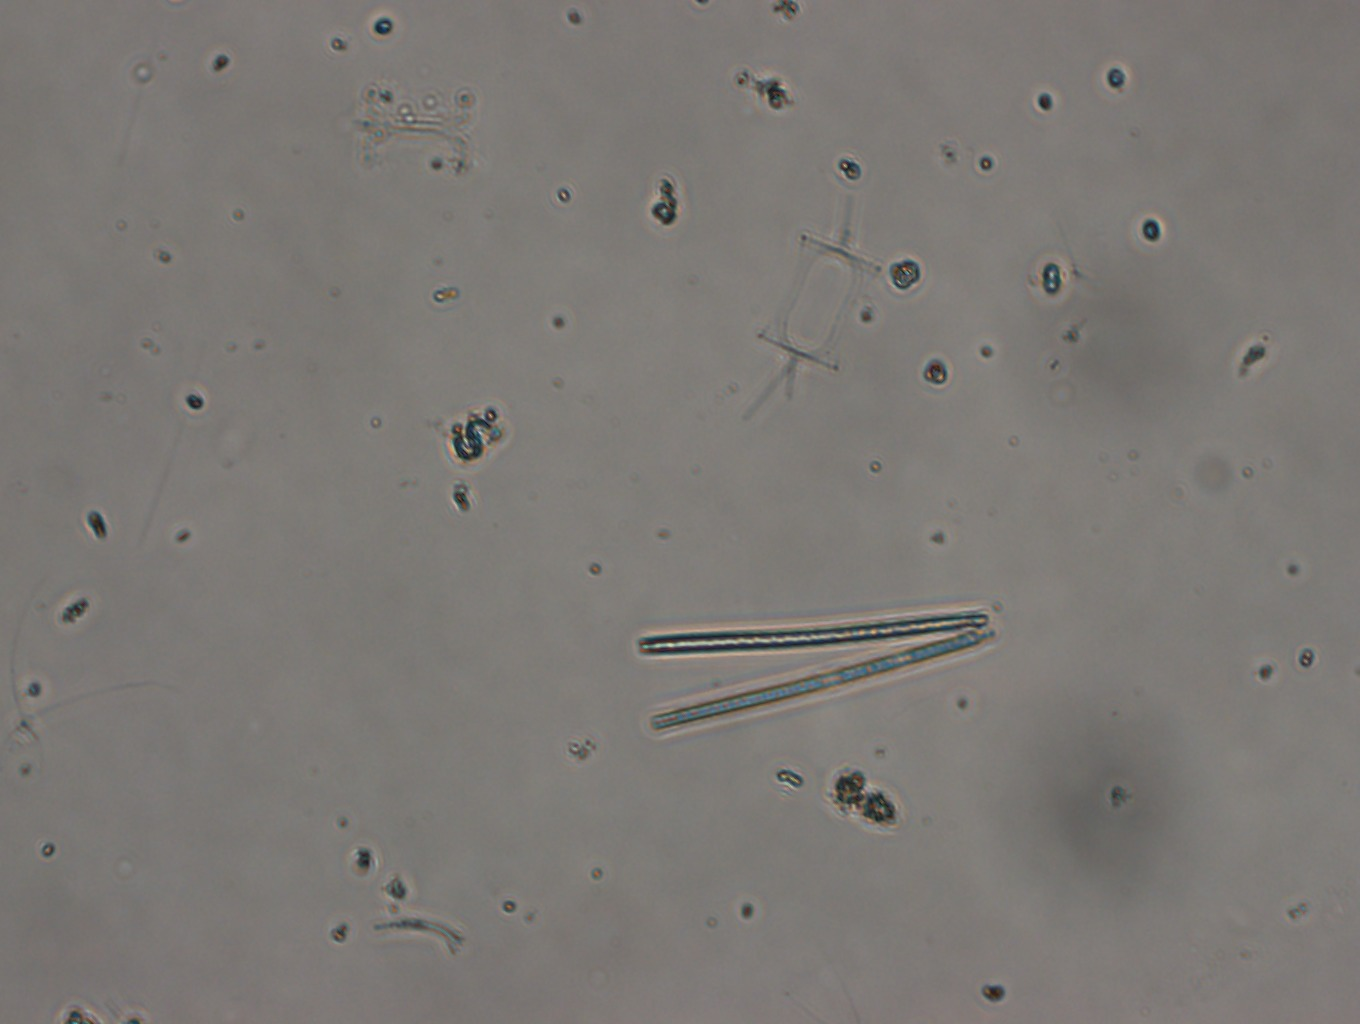thalassionema frauenfeldii: (620, 602, 1005, 731)
